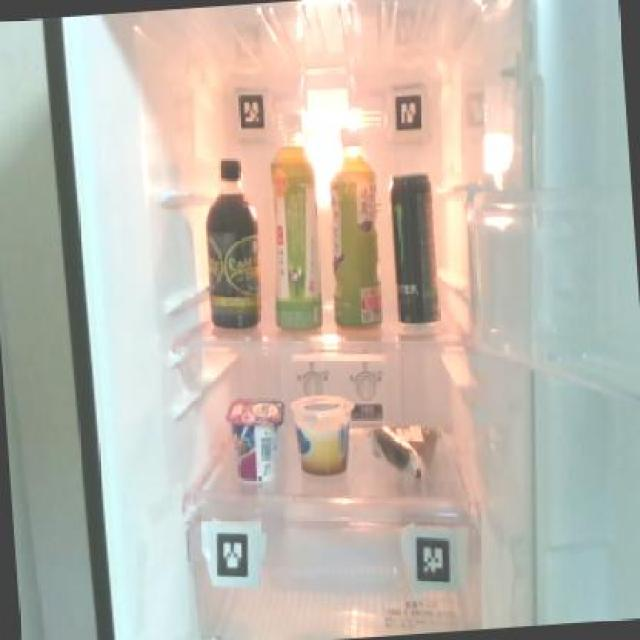coffee: (199, 156, 264, 330)
energy_drink: (383, 163, 443, 328)
pudding: (287, 388, 356, 482)
rice_ball: (367, 414, 444, 484)
tea_a: (322, 123, 386, 328)
tea_i: (265, 112, 326, 332)
yogurt: (226, 389, 289, 491)
